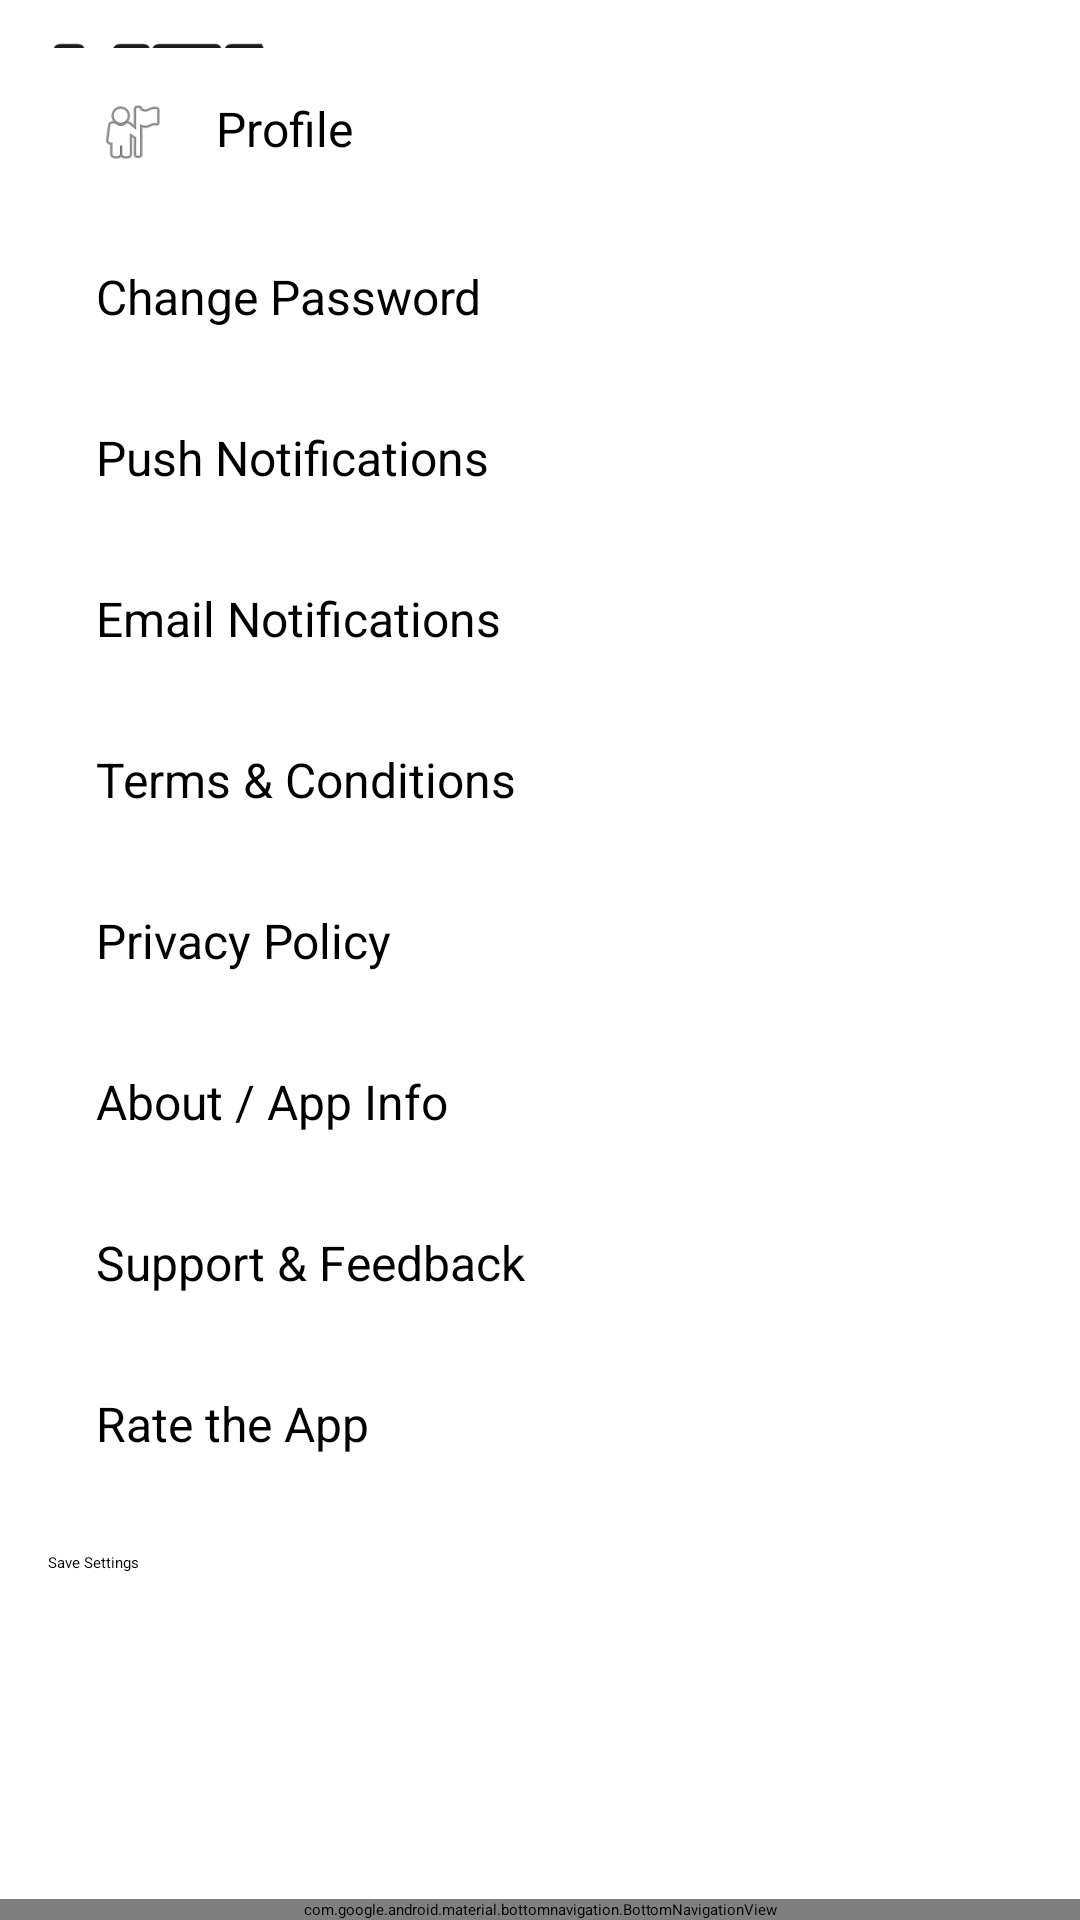

Screen size 1080px×1920px. Icon name, then its box in pixels as [x1=x1, y1=y1, x2=x2, y2=y2]:
myplaces: [x1=106, y1=105, x2=160, y2=159]
